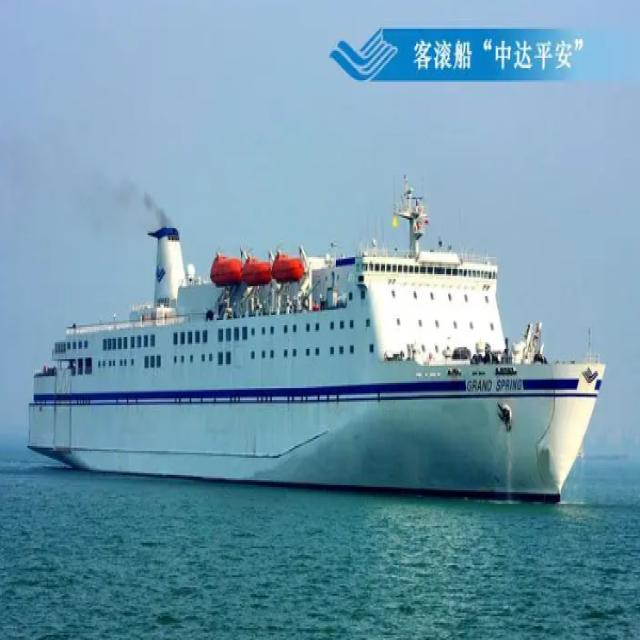passenger ship: (25, 158, 608, 510)
